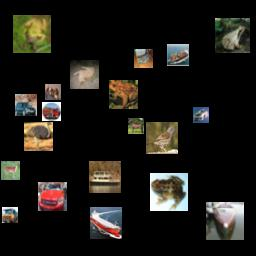automobile: (38, 182, 67, 211), (15, 94, 37, 116), (193, 107, 209, 123)
bird: (146, 122, 178, 154), (24, 122, 53, 151)
cat: (70, 60, 99, 89), (134, 49, 153, 68)
deer: (1, 161, 20, 180)
dog: (45, 84, 61, 100)
frog: (150, 173, 188, 211), (13, 15, 51, 53), (215, 18, 250, 53), (109, 80, 138, 109)
ship: (206, 202, 244, 240), (89, 161, 121, 193), (90, 207, 122, 239), (167, 44, 189, 66)
truck: (42, 102, 61, 121), (2, 207, 18, 223)
